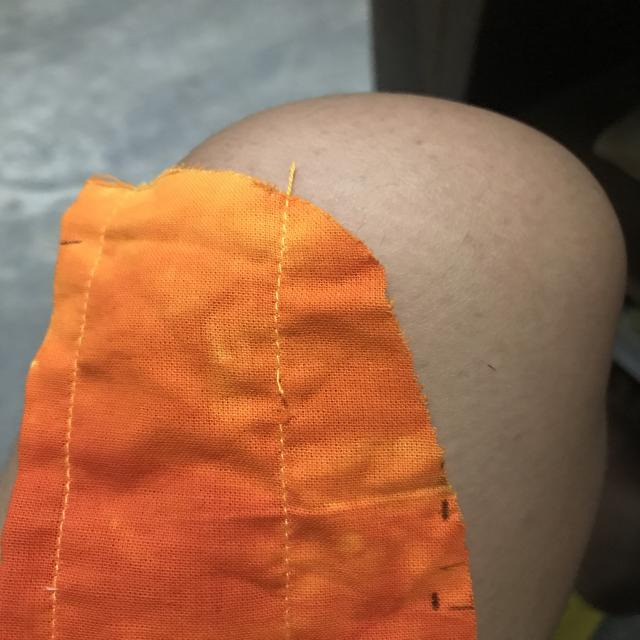broken: (252, 353, 323, 442)
good: (269, 468, 301, 586)
